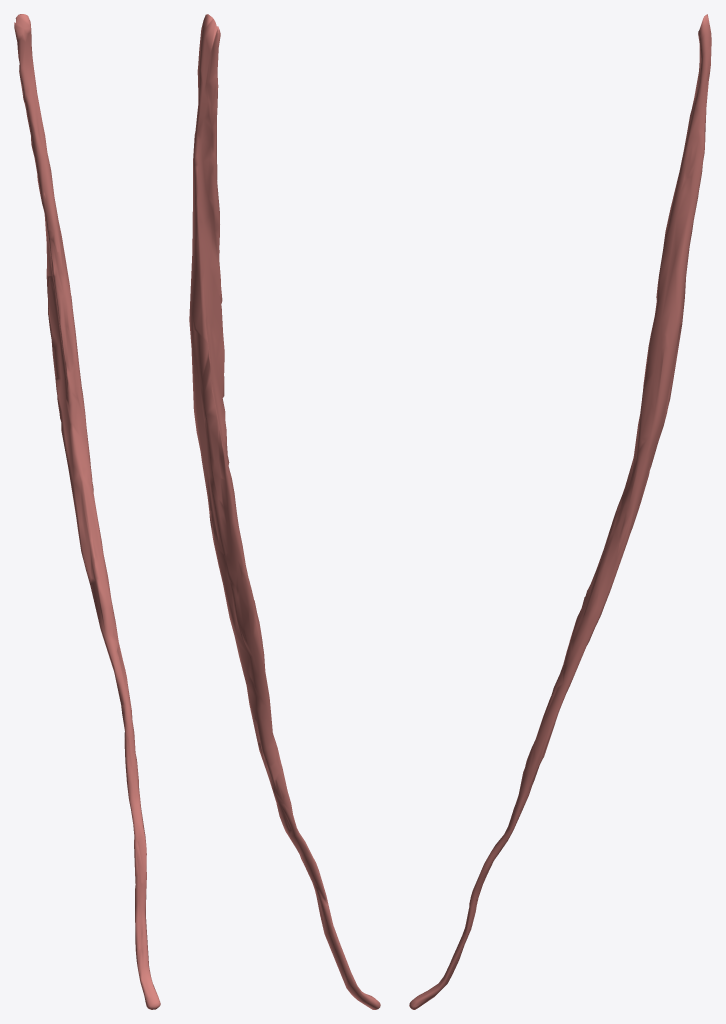
3 views of the same model, side by side, from view 1: azimuth 30°, elevation 25°; view 2: azimuth 150°, elevation 25°; view 3: azimuth 270°, elevation 25° (orthographic). The views are drawn at different scales.
Parts seen in each view (by area): view 1: ZA_d9f1d582317fada3; view 2: ZA_d9f1d582317fada3; view 3: ZA_d9f1d582317fada3.
Boxes of the visible parts, box(x1,y1,x2,y2) form: ZA_d9f1d582317fada3: box(14, 14, 160, 1009); ZA_d9f1d582317fada3: box(189, 14, 380, 1009); ZA_d9f1d582317fada3: box(409, 14, 711, 1009).
Size of the model in its own units: 0.0168 by 0.3359 by 0.0926.
